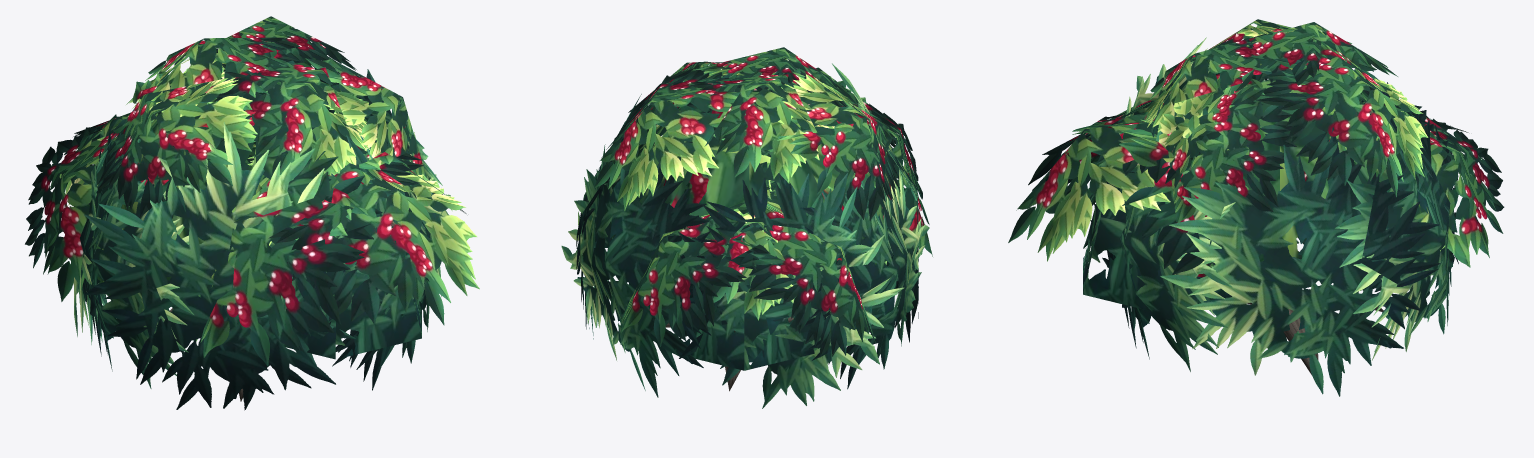
The model's file is shrub_berry.glb.
3 renders of one model, left to right at view 1: azimuth 30°, elevation 25°; view 2: azimuth 150°, elevation 25°; view 3: azimuth 270°, elevation 25°, orthographic. The views are drawn at different scales.
Visible parts, largest first — view 1: shrub_berry; view 2: shrub_berry; view 3: shrub_berry.
Part boxes in pixels (left/top/right/bottom): shrub_berry: left=25, top=16, right=479, bottom=410; shrub_berry: left=561, top=47, right=932, bottom=408; shrub_berry: left=1008, top=19, right=1504, bottom=396.
Size of the model in its own units: 1.51 by 1.3 by 1.85.
Materials: 2 (2 with a texture image).
